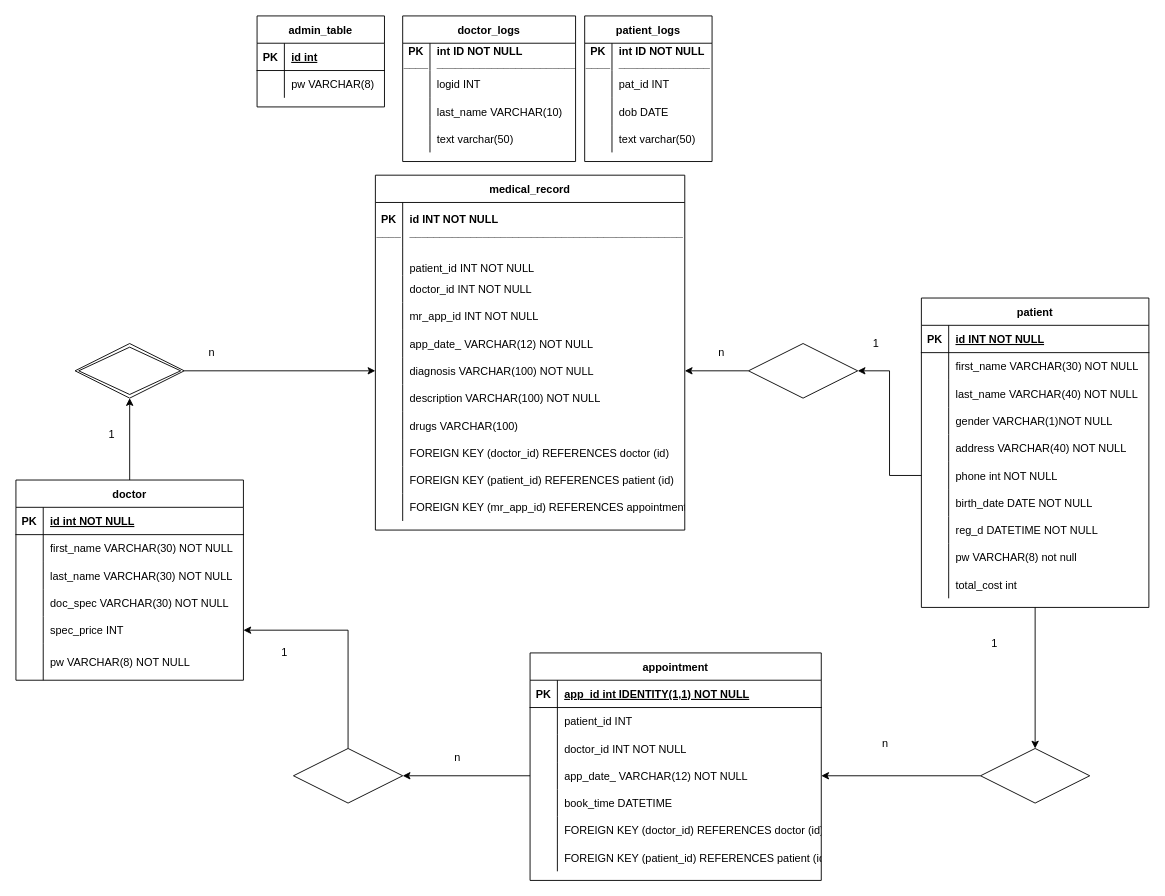
The diagram is 1165 pixels wide and 896 high, and some of its shapes have lost their labels. The centre of each missing label's shape, as x and y in pixels:
BOOKS: (x=1035, y=775)
EDITS: (x=129, y=370)
HAS: (x=803, y=370)
IS BOOKED BY: (x=348, y=775)
